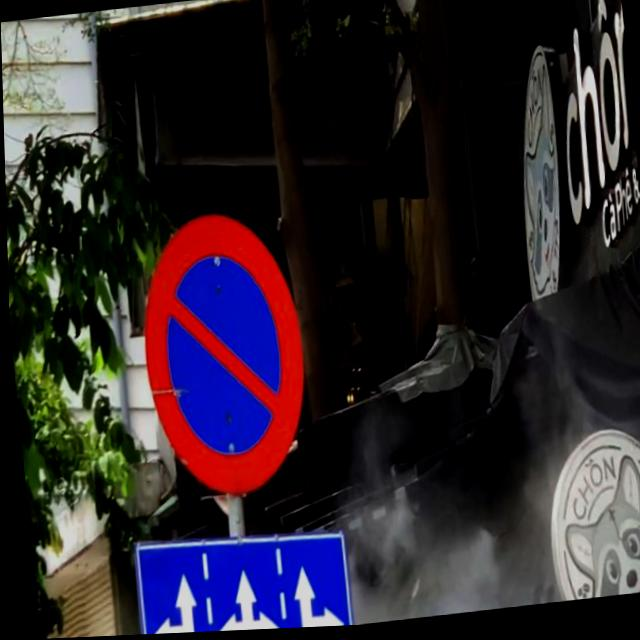Cam do xe: (130, 204, 314, 508)
